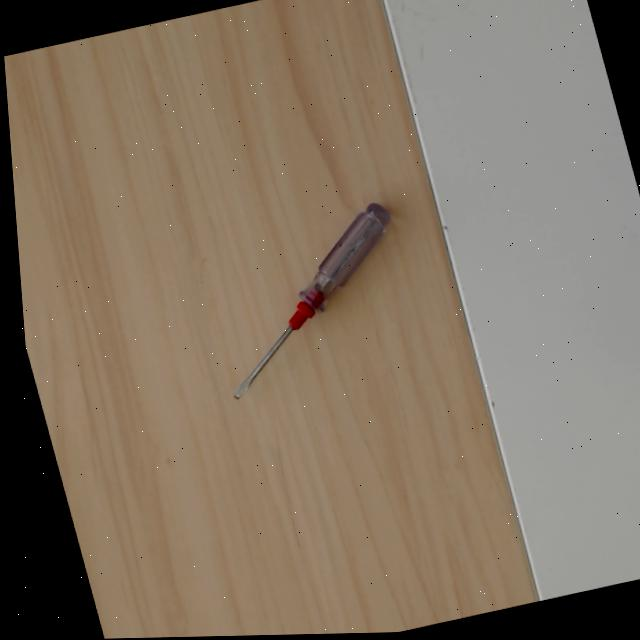Obeng-Kecil: (224, 197, 397, 410)
